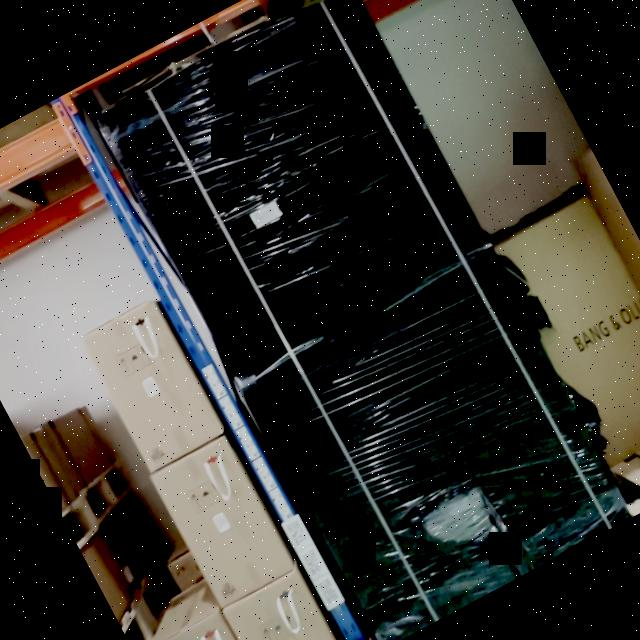box: (94, 0, 630, 640), (493, 193, 640, 468), (82, 299, 225, 472), (152, 437, 294, 606), (224, 571, 348, 640), (150, 612, 271, 640)
